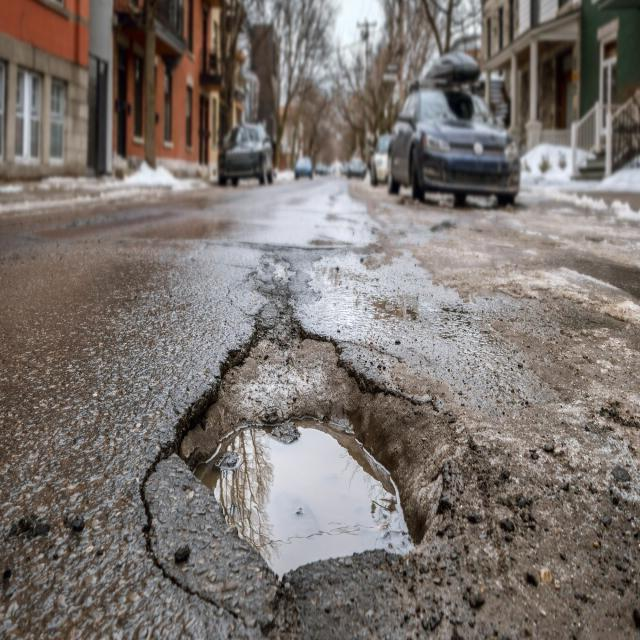pothole: (134, 276, 508, 626)
